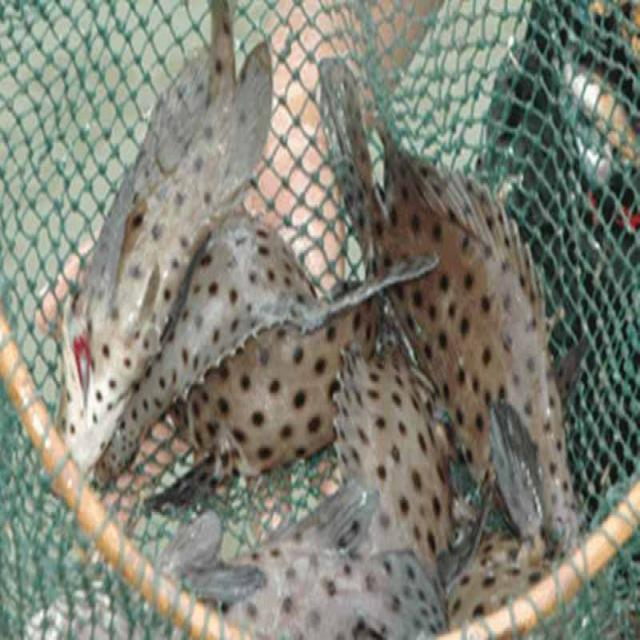grouper: (316, 33, 593, 576), (48, 1, 275, 470), (187, 491, 450, 640)
